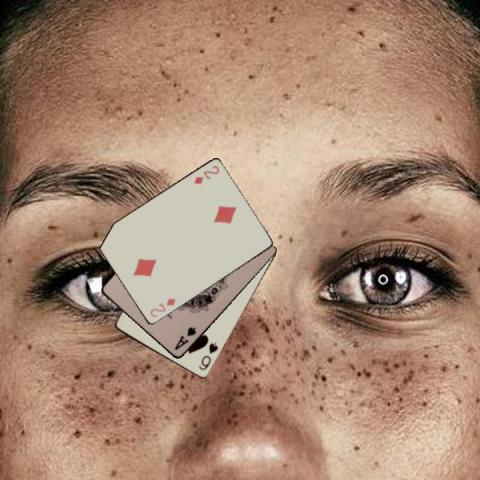2d: (146, 295, 176, 319), (190, 163, 220, 186)
6s: (195, 339, 220, 372)
As: (171, 324, 198, 352)
